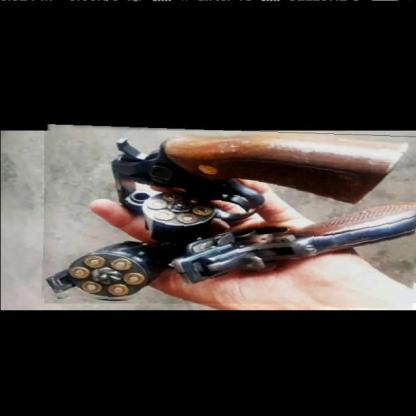handgun: (43, 127, 416, 306)
